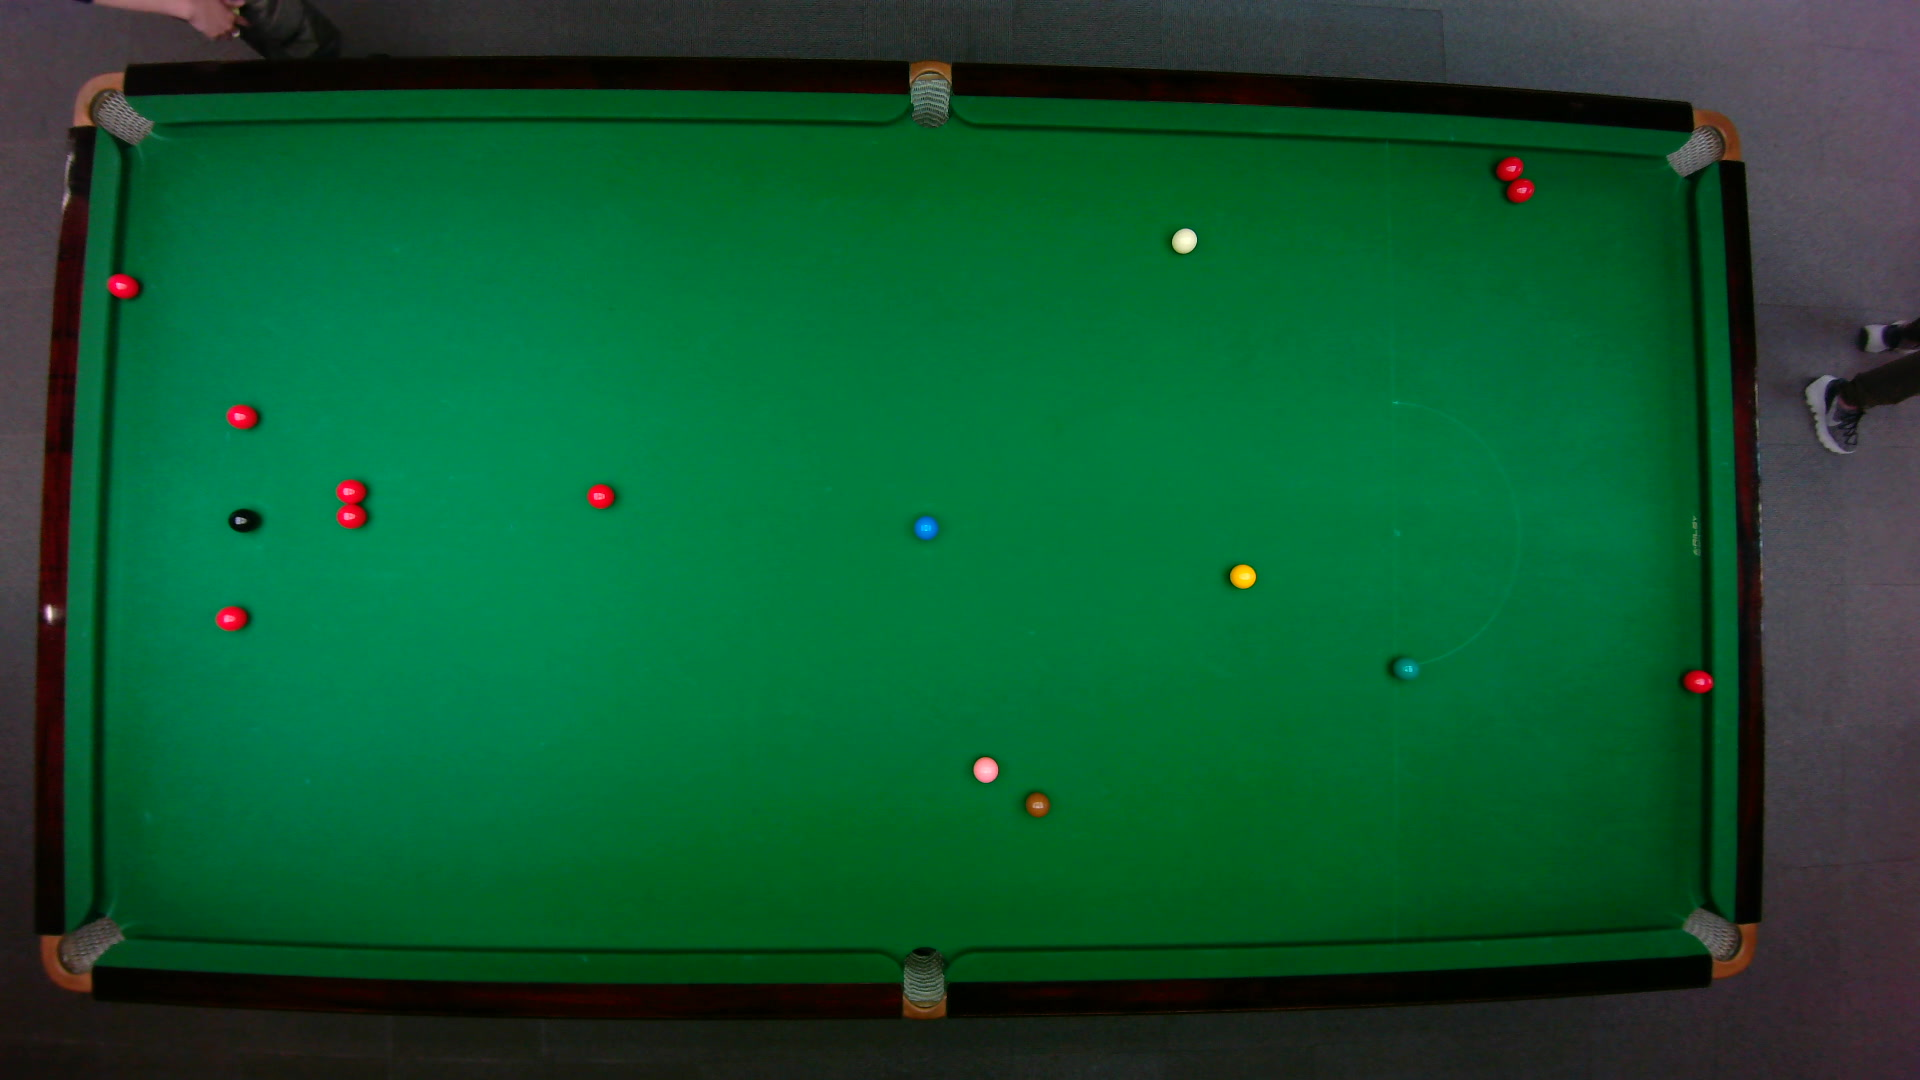bag: (37, 913, 125, 992), (70, 70, 154, 146), (1677, 905, 1756, 978), (1663, 108, 1741, 178), (901, 944, 944, 1021), (909, 57, 949, 128)
black: (225, 506, 258, 533)
blue: (911, 513, 938, 541)
brown: (1022, 791, 1050, 818)
green: (1390, 654, 1419, 680)
pink: (971, 754, 1000, 785)
red: (104, 270, 140, 299), (1493, 153, 1524, 182), (334, 476, 367, 504), (1503, 175, 1536, 203), (1680, 667, 1714, 694), (212, 604, 247, 630), (224, 402, 257, 429), (584, 481, 615, 509), (334, 504, 367, 529)
white: (1168, 225, 1197, 255)
yellow: (1226, 560, 1255, 588)
zone: (1389, 400, 1519, 667)
